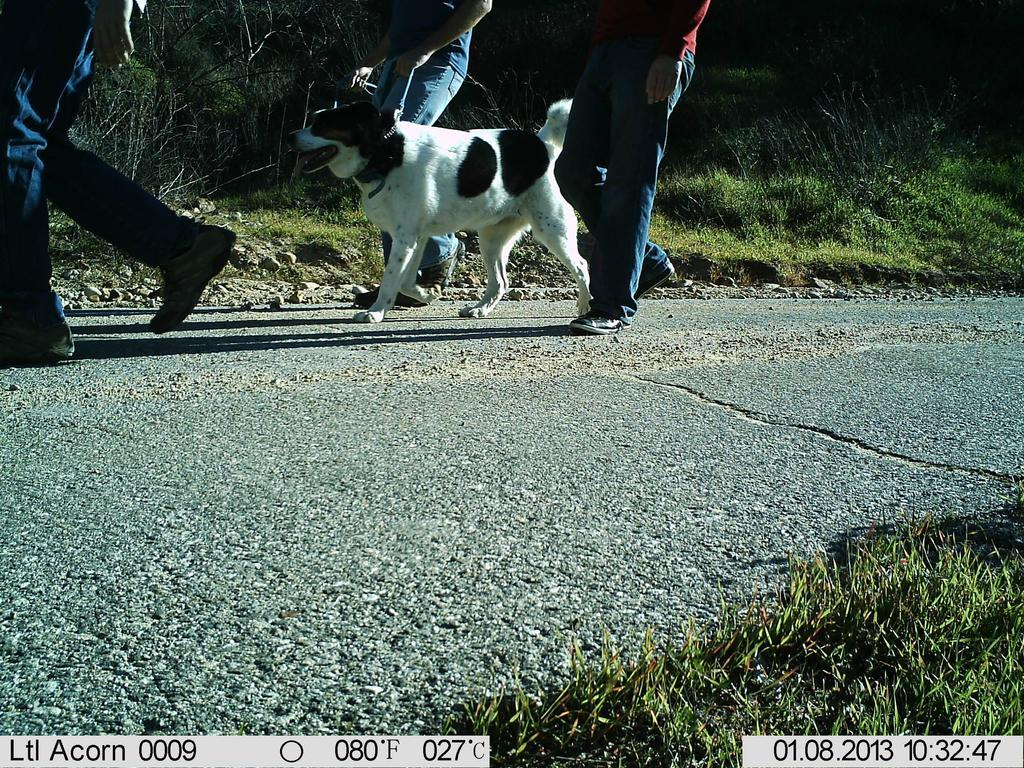dog: (4, 1, 241, 374), (287, 90, 628, 322), (551, 1, 733, 335), (322, 1, 504, 309)
